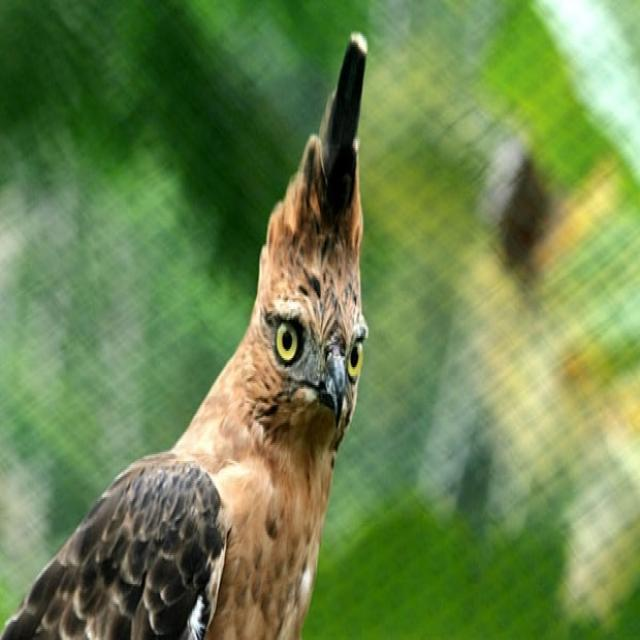Elang Jawa: (0, 18, 379, 640)
